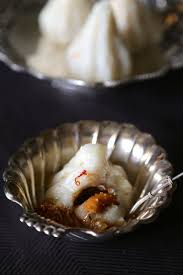modak: (67, 1, 138, 81)
